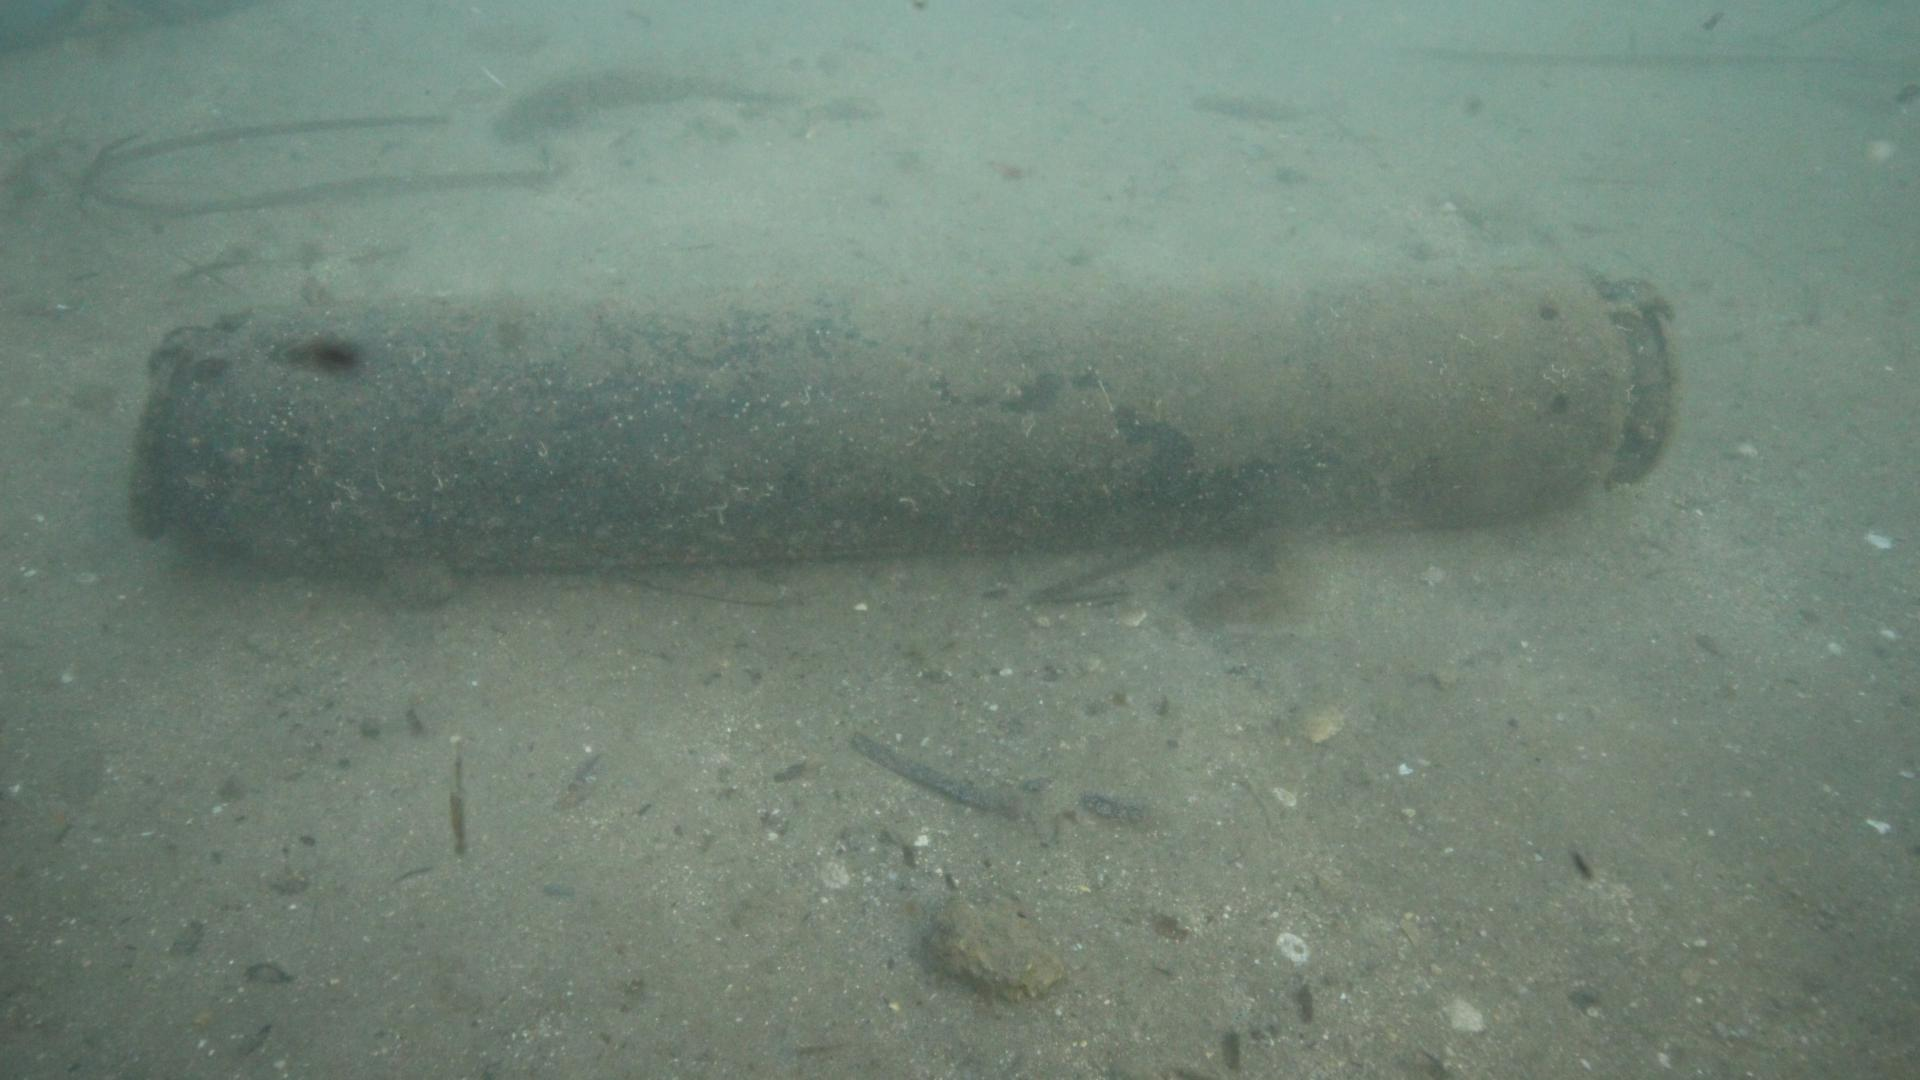eel fish trap: (119, 260, 1680, 579)
